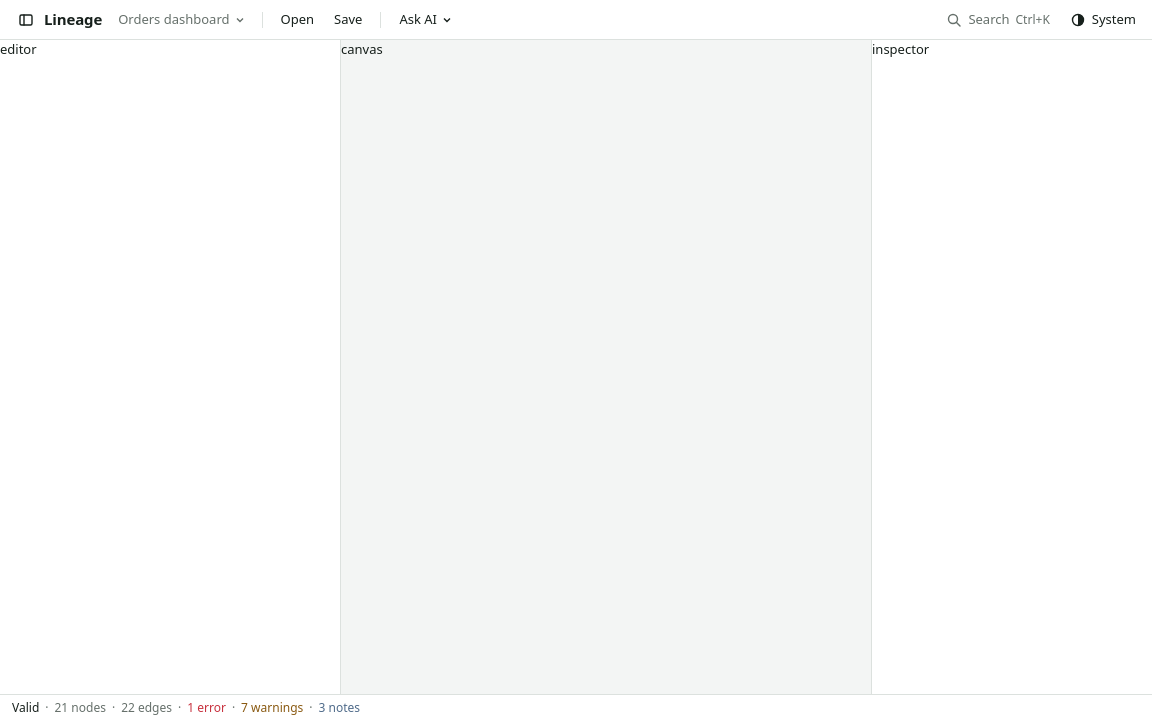
Add node › cancels without changing anything
Step 1. Type keys "n"
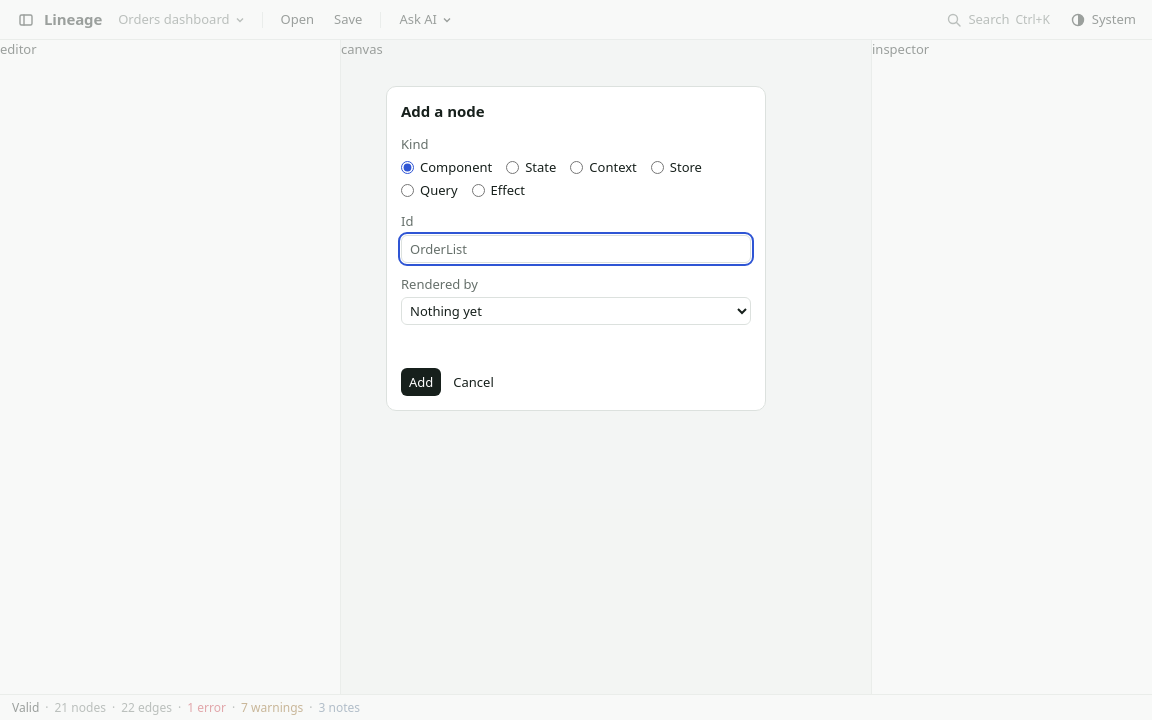
Step 2. Type "Toast" into the field labelled "Id" → (576, 248), box [401,234,751,262]
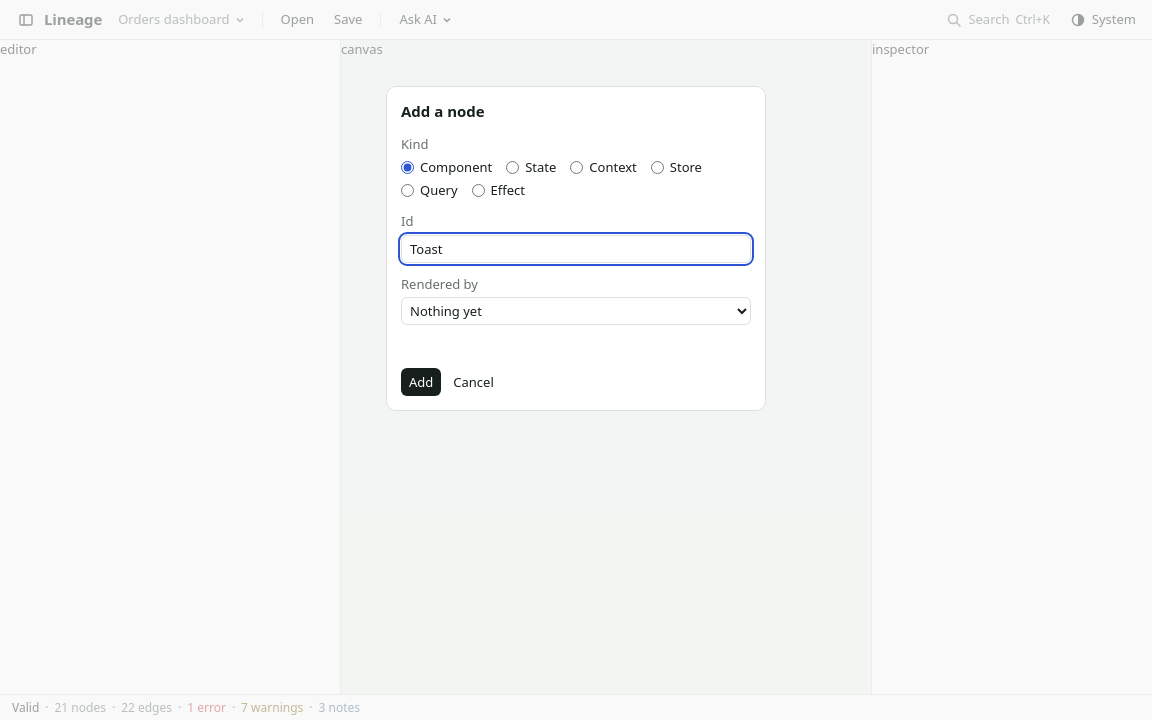
Step 3. Click the button "Cancel" → click(474, 382), box [445,368,502,396]
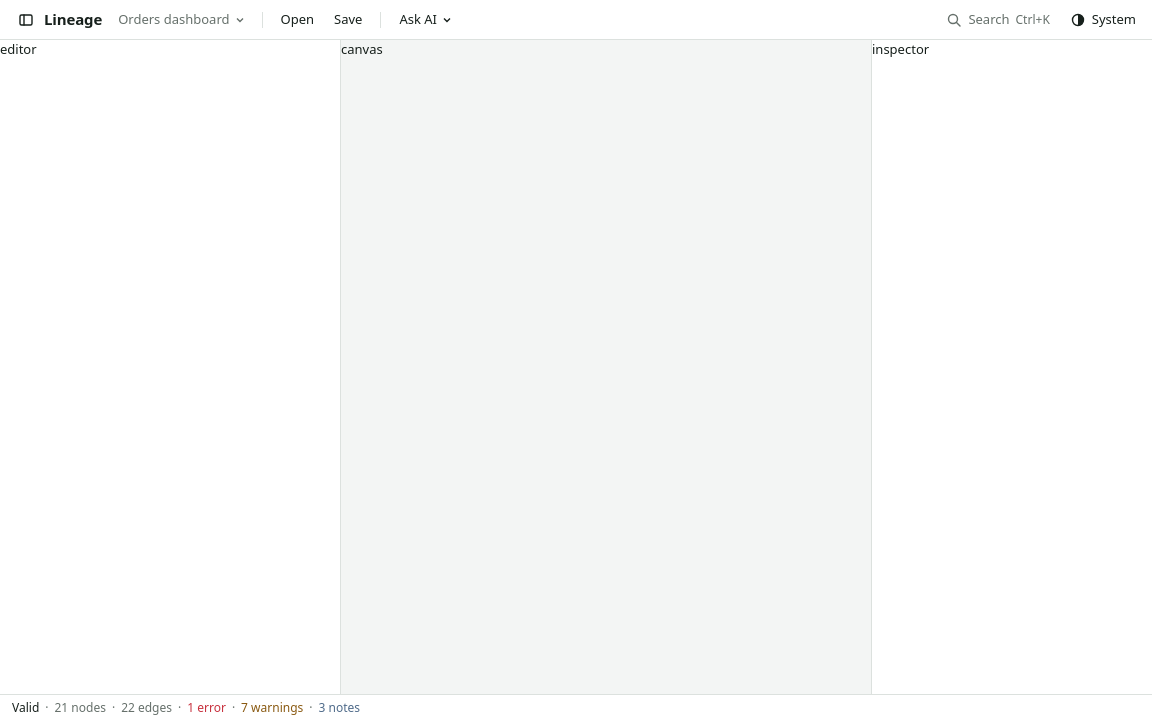
Expected: the heading "Add a node" is gone
